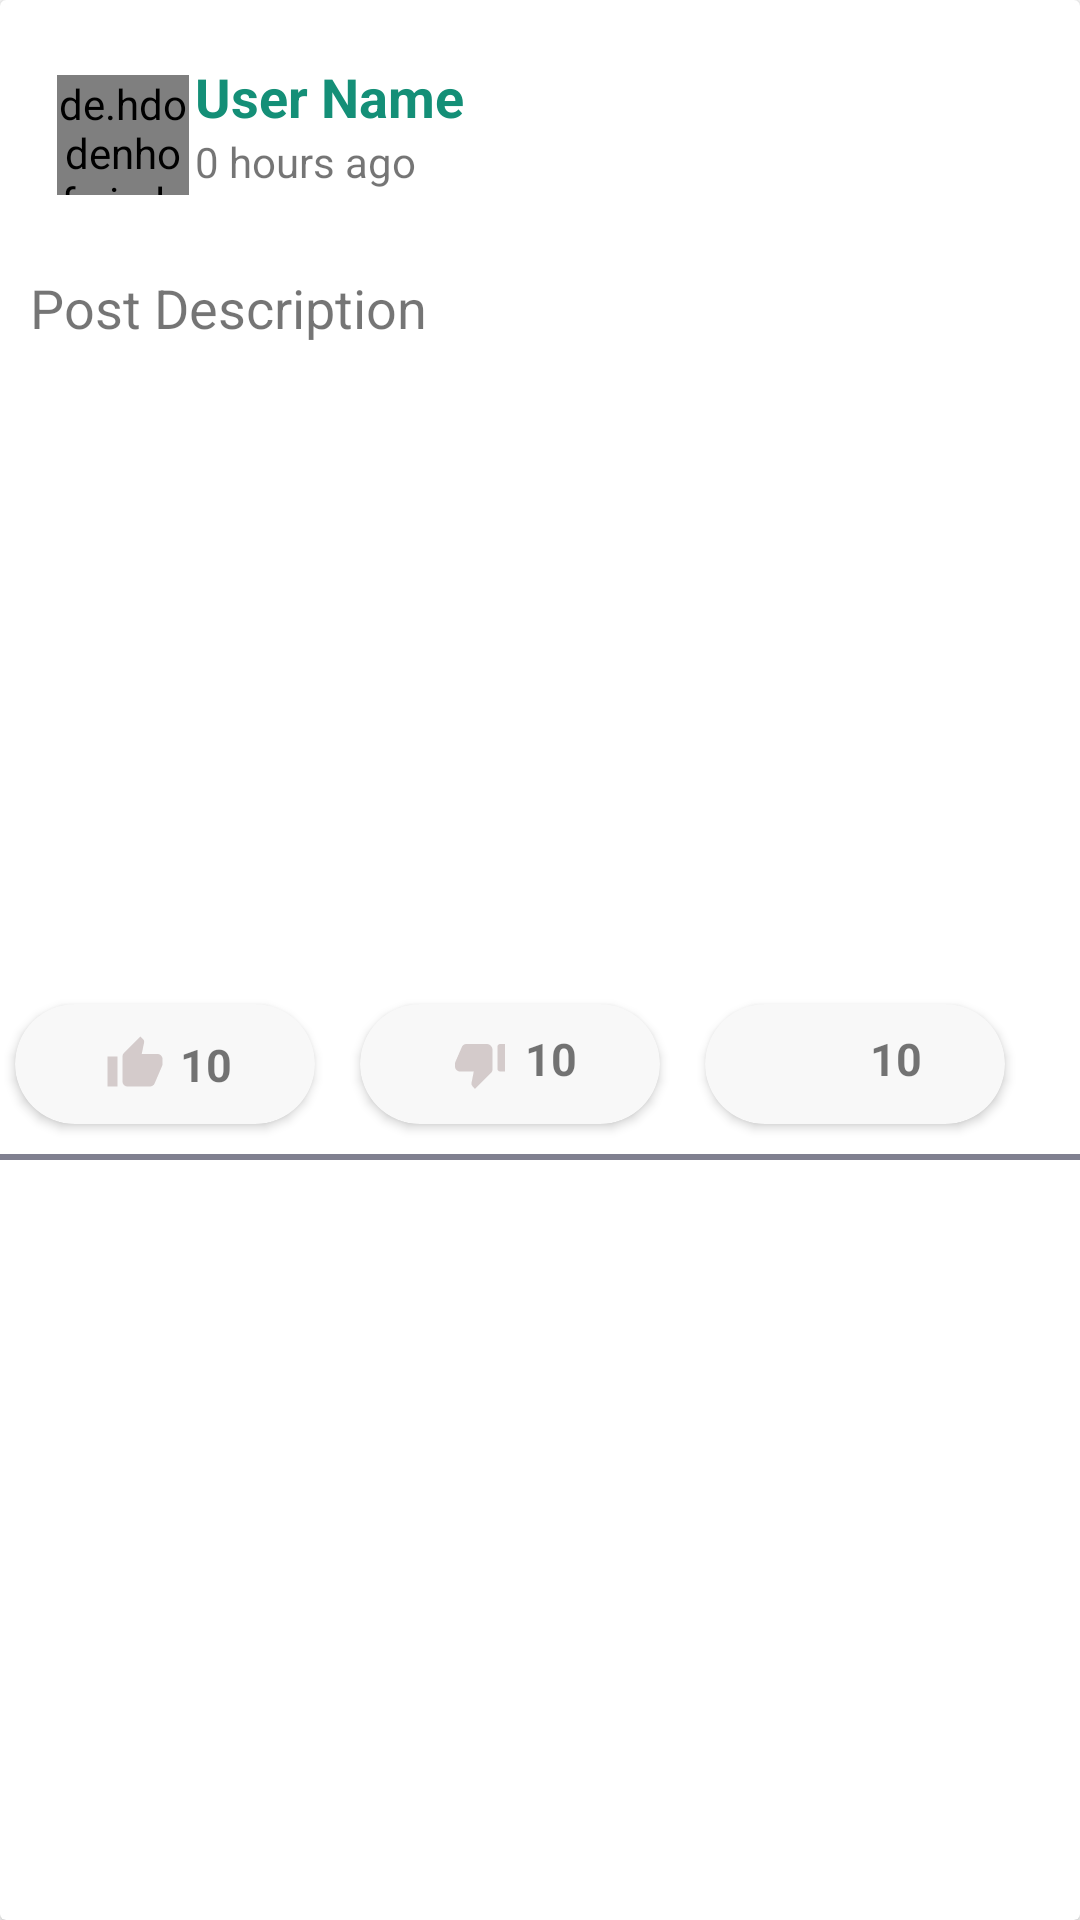

Where to tap for icons on this 1080x1920 app screen, as (x,y):
thumb down: (480,1066)
thumb up: (135,1061)
